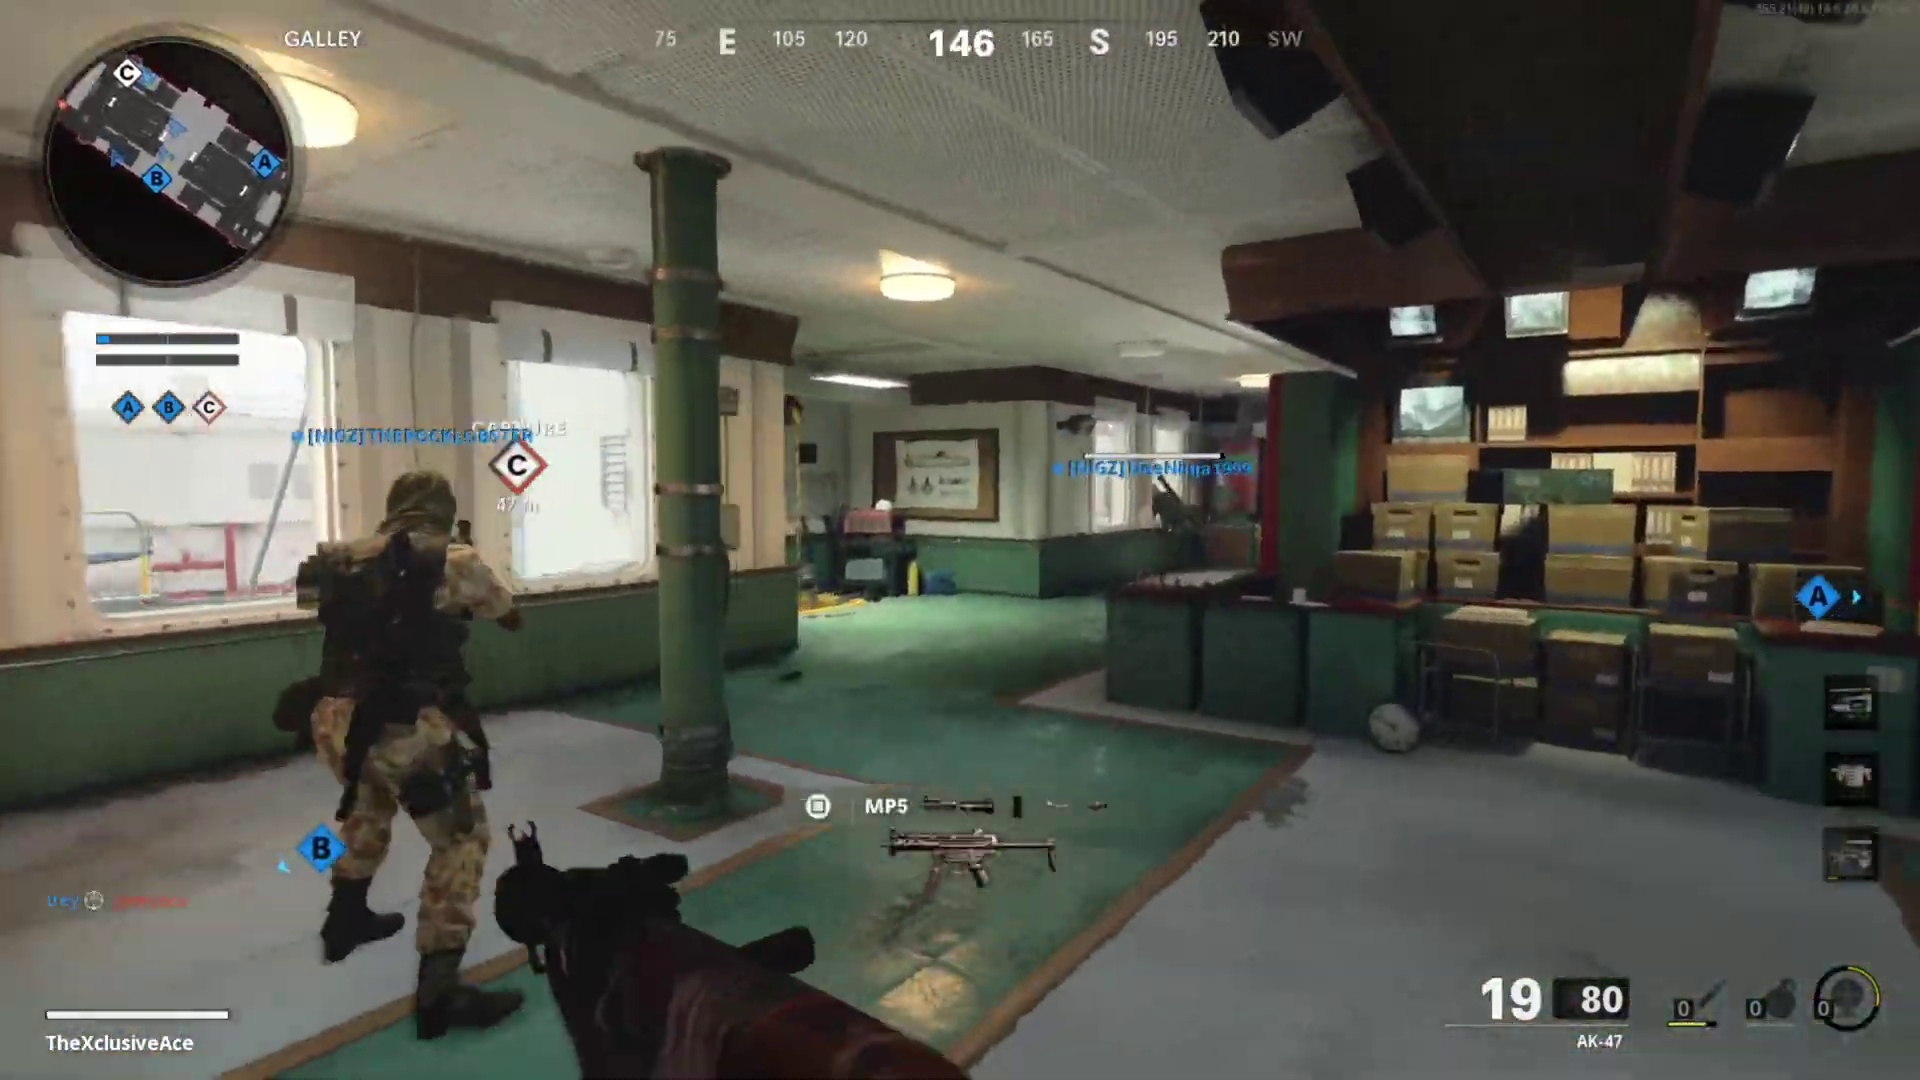head: (378, 481, 456, 552)
person: (306, 458, 517, 1042), (1151, 477, 1205, 570)
